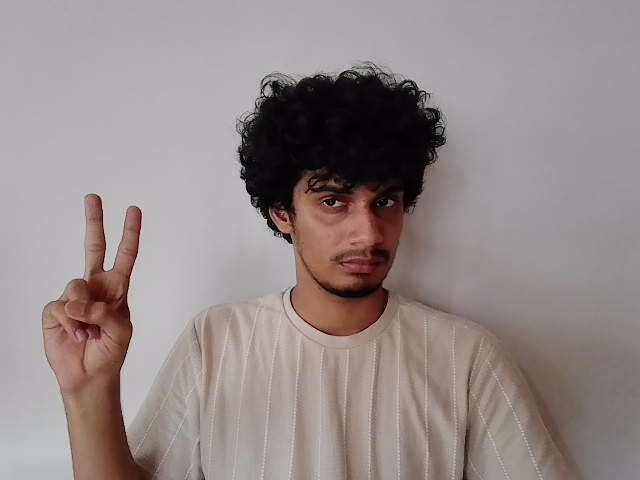travel: (35, 190, 146, 375)
